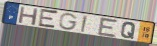E: (37, 7, 60, 30), (97, 16, 120, 39)
G: (58, 13, 79, 31)
H: (17, 6, 40, 27)
I: (80, 15, 89, 34)
Q: (119, 21, 137, 40)
